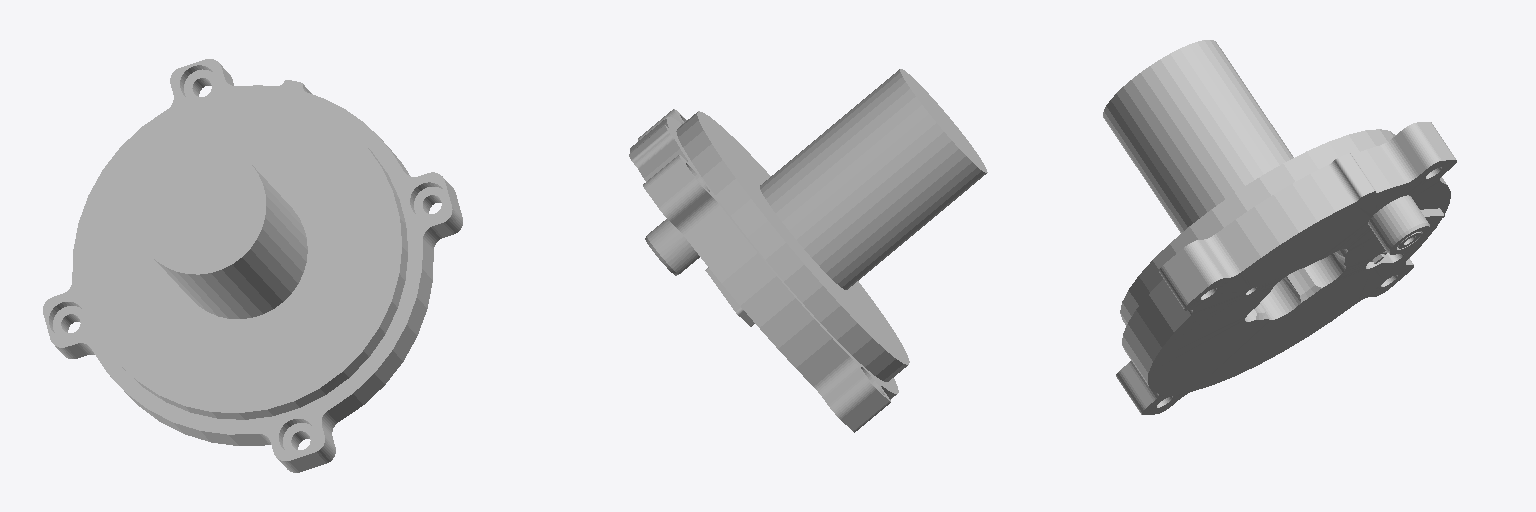
File: IRB14000_rev00_Link7_L.obj
The picture shows the model from 3 angles: view 1: azimuth 30°, elevation 25°; view 2: azimuth 150°, elevation 25°; view 3: azimuth 270°, elevation 25°; orthographic projection.
Visible parts, largest first — view 1: Link7_L3.0-1, Link7_L3.0-2; view 2: Link7_L3.0-1, Link7_L3.0-2; view 3: Link7_L3.0-2, Link7_L3.0-1.
Part boxes in pixels (bbox=[...]): Link7_L3.0-1: bbox=[81, 94, 401, 412]; Link7_L3.0-2: bbox=[43, 59, 462, 472]; Link7_L3.0-1: bbox=[697, 69, 987, 364]; Link7_L3.0-2: bbox=[629, 109, 907, 432]; Link7_L3.0-2: bbox=[1116, 122, 1456, 414]; Link7_L3.0-1: bbox=[1103, 40, 1293, 232].
Size of the model in its own units: 0.0557 by 0.0544 by 0.0521.